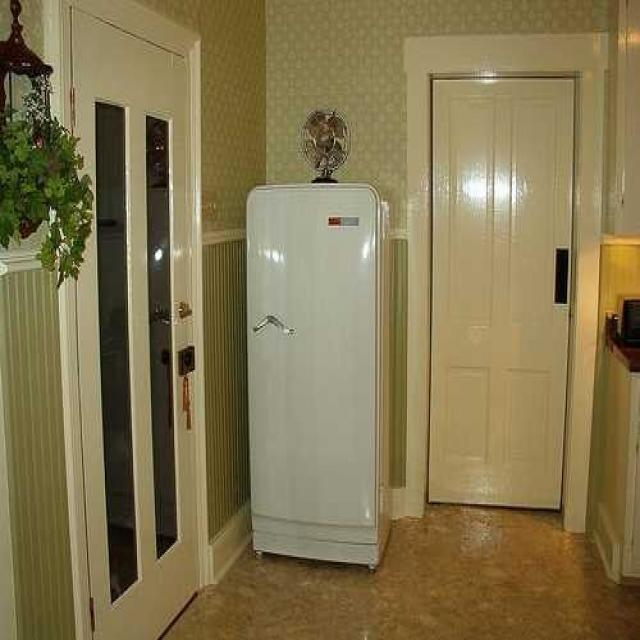refrigerator: (248, 186, 380, 574)
